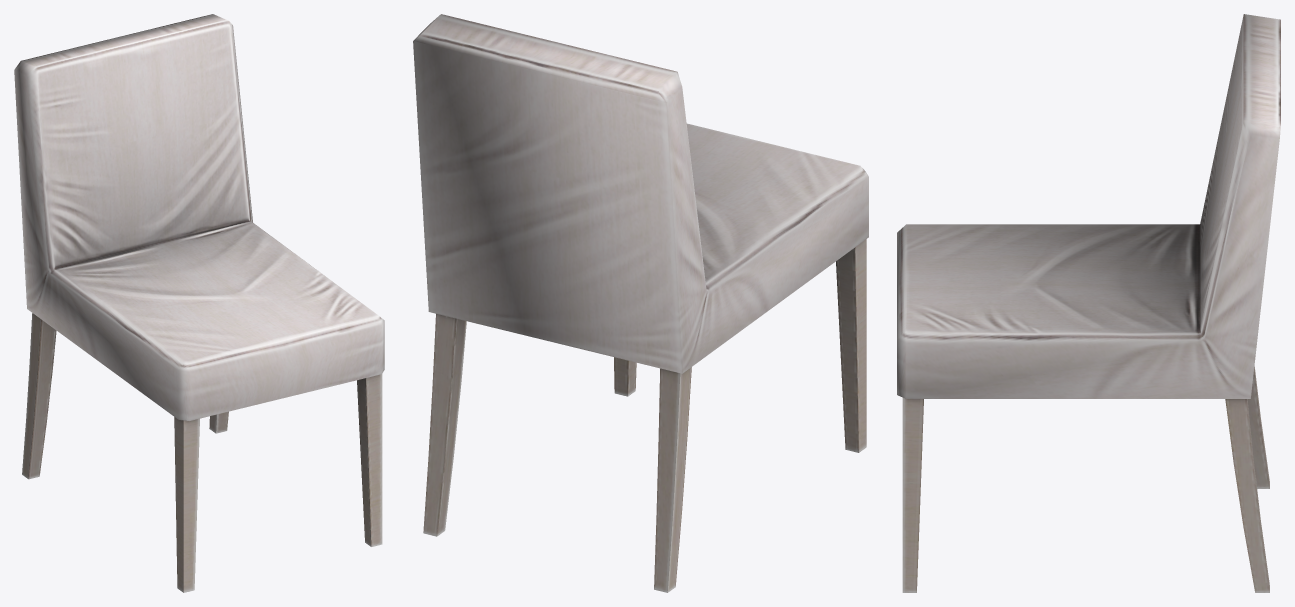
Rendered from Chair01.FBX.
3 renders of one model, left to right at view 1: azimuth 30°, elevation 25°; view 2: azimuth 150°, elevation 25°; view 3: azimuth 270°, elevation 25°, orthographic. The views are drawn at different scales.
Parts seen in each view (by area): view 1: Chair01; view 2: Chair01; view 3: Chair01.
Boxes of the visible parts, <box> form: Chair01: <box>14,14,384,592</box>; Chair01: <box>413,14,868,592</box>; Chair01: <box>897,14,1280,592</box>.
Size of the model in its own units: 42.69 by 60.57 by 82.01.
